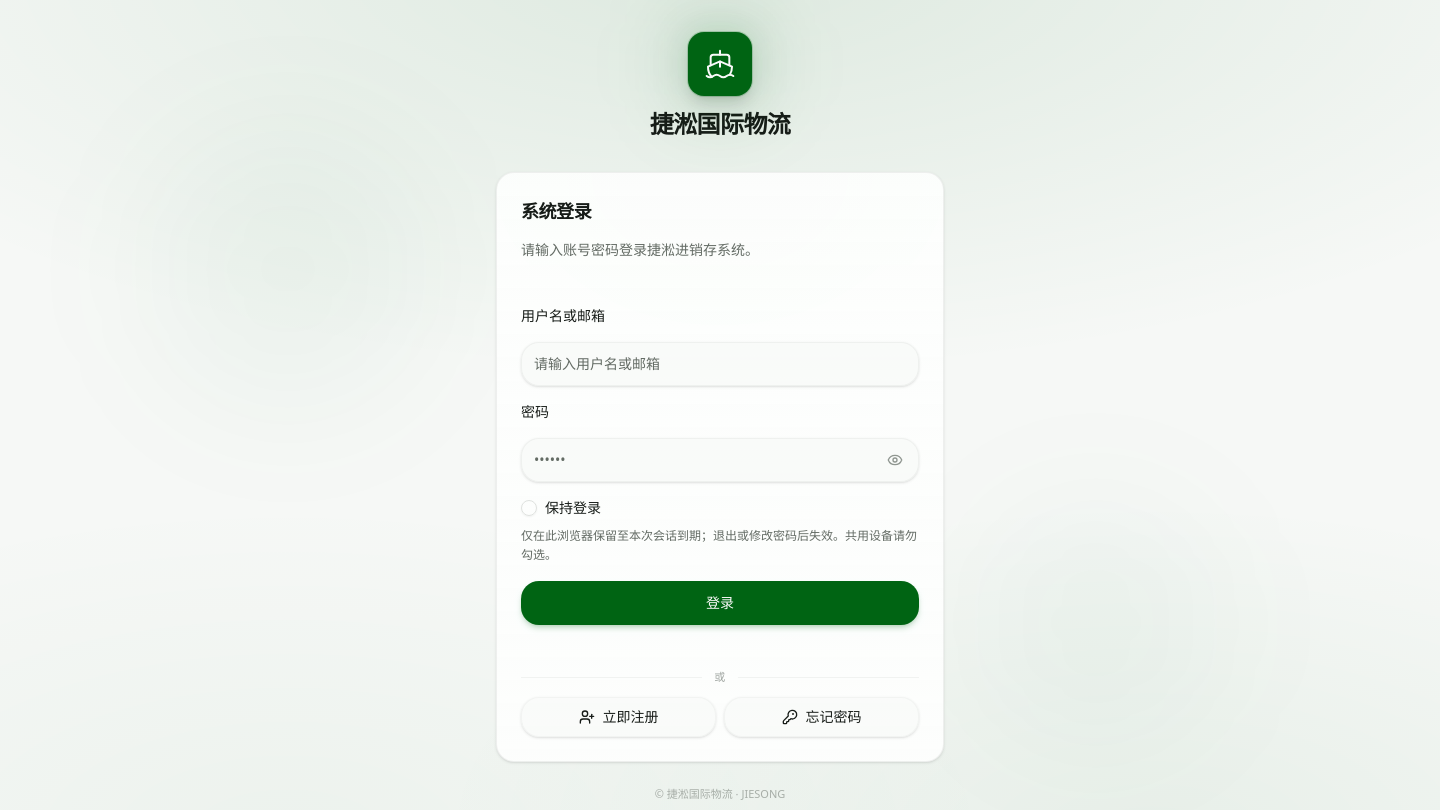
Scenario: LoginPage 交互逻辑 › 登录失败时展示错误提示
Expected: the button "登录" is enabled, [521,581,919,625]
In the field labelled "用户名或邮箱": (720, 364) [521,342,919,386], type "admin"
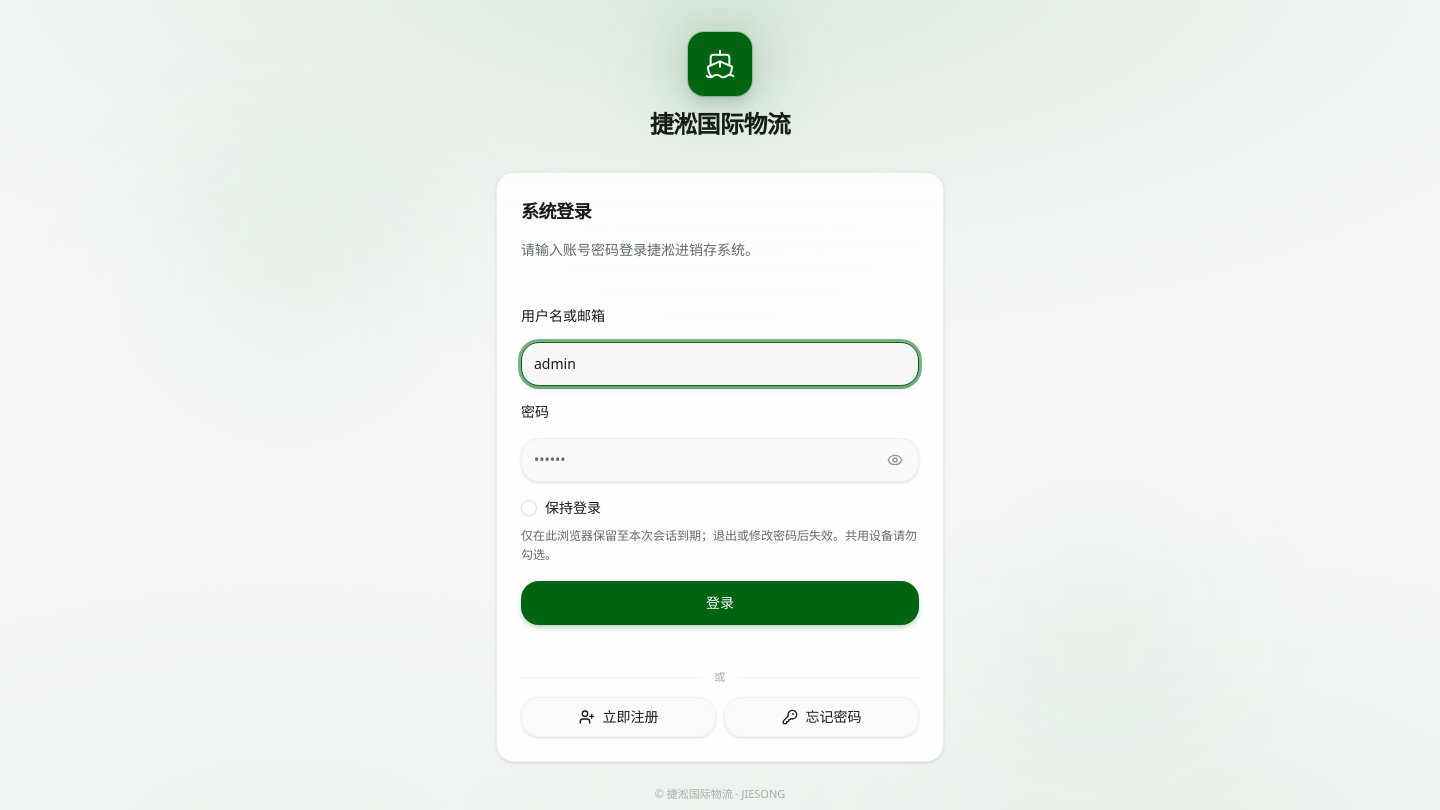
In the password field labelled "密码": (720, 460) [521,438,919,482], type "wrong-password"
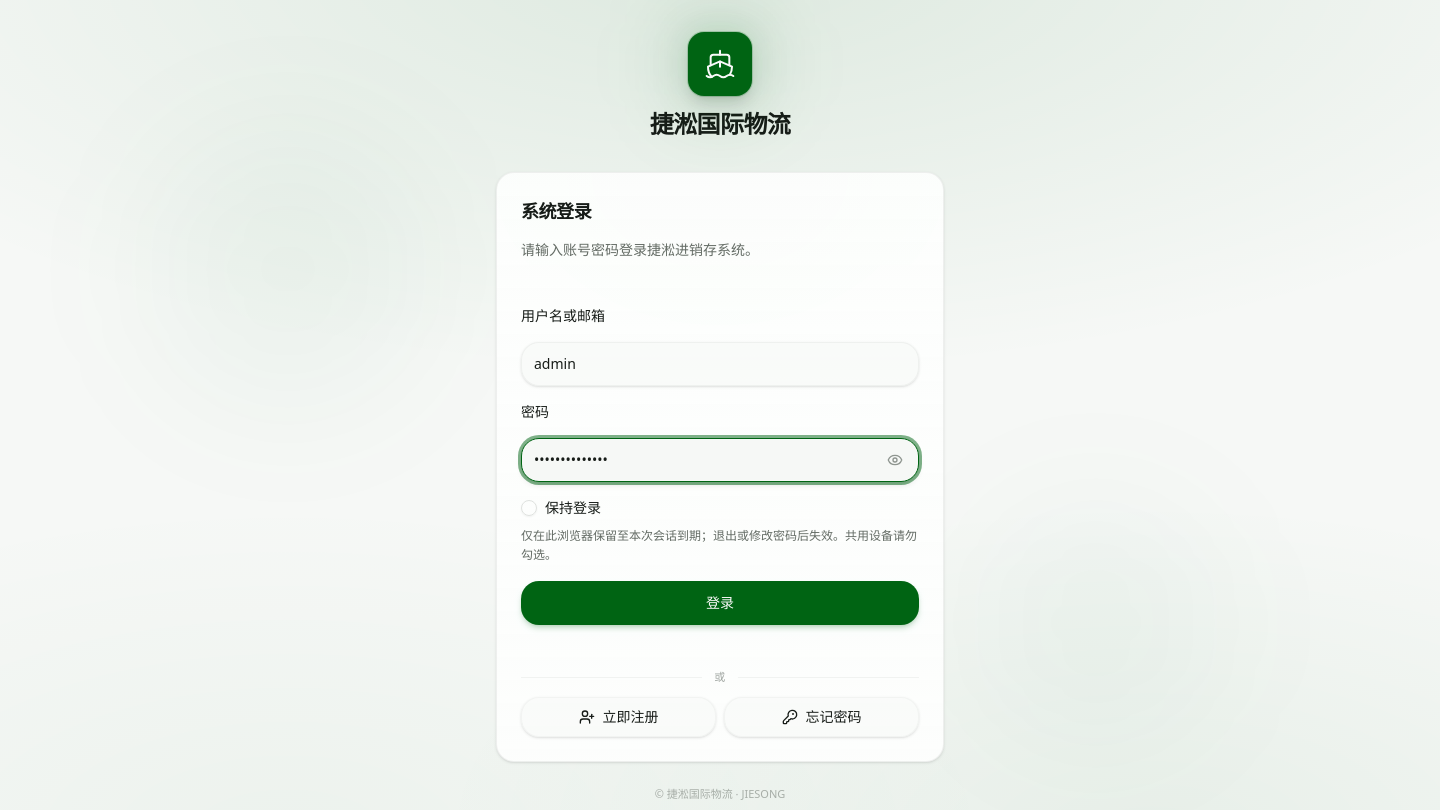
Click the button "登录": (720, 603) [521,581,919,625]
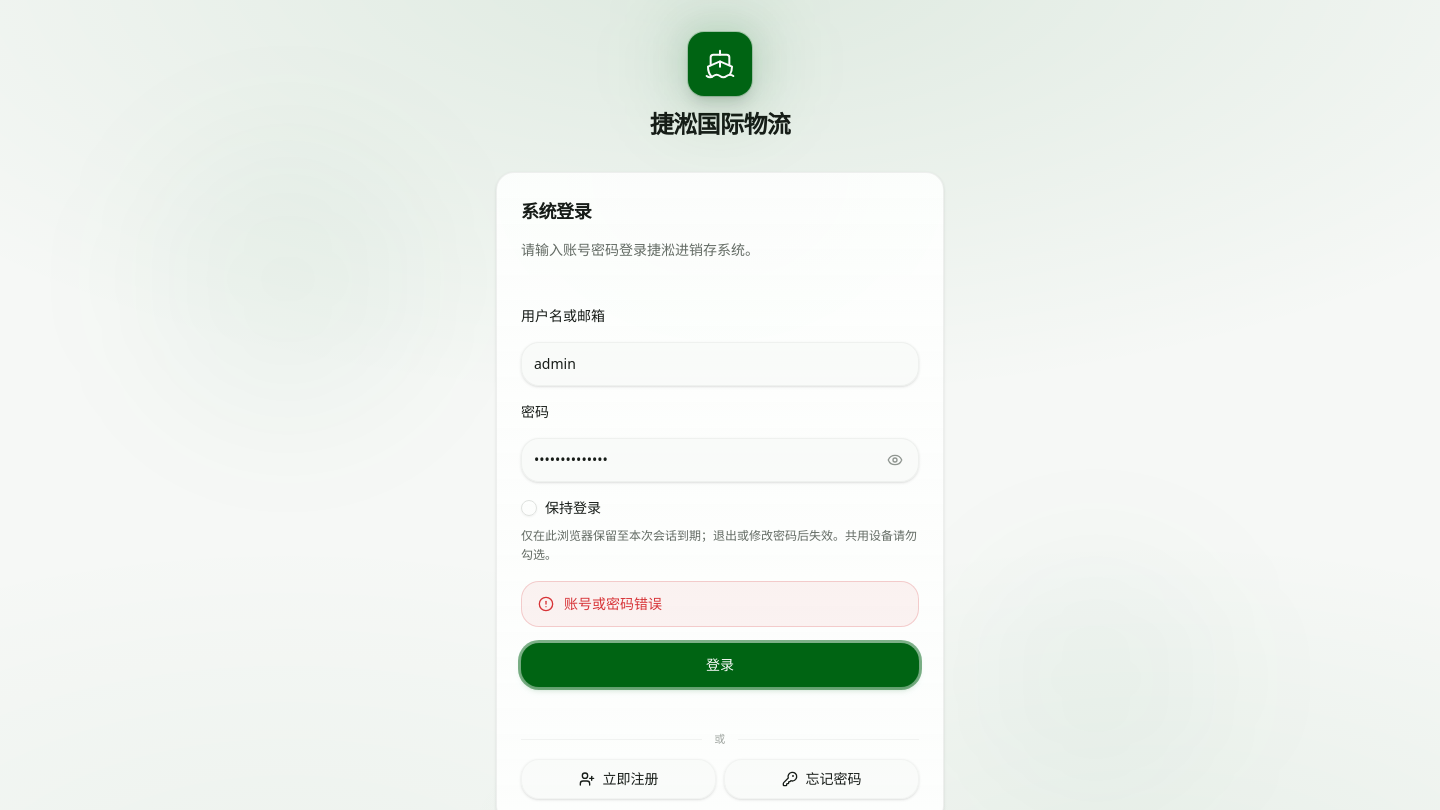
Expected: the text "账号或密码错误" is shown, [564,594,662,614]
